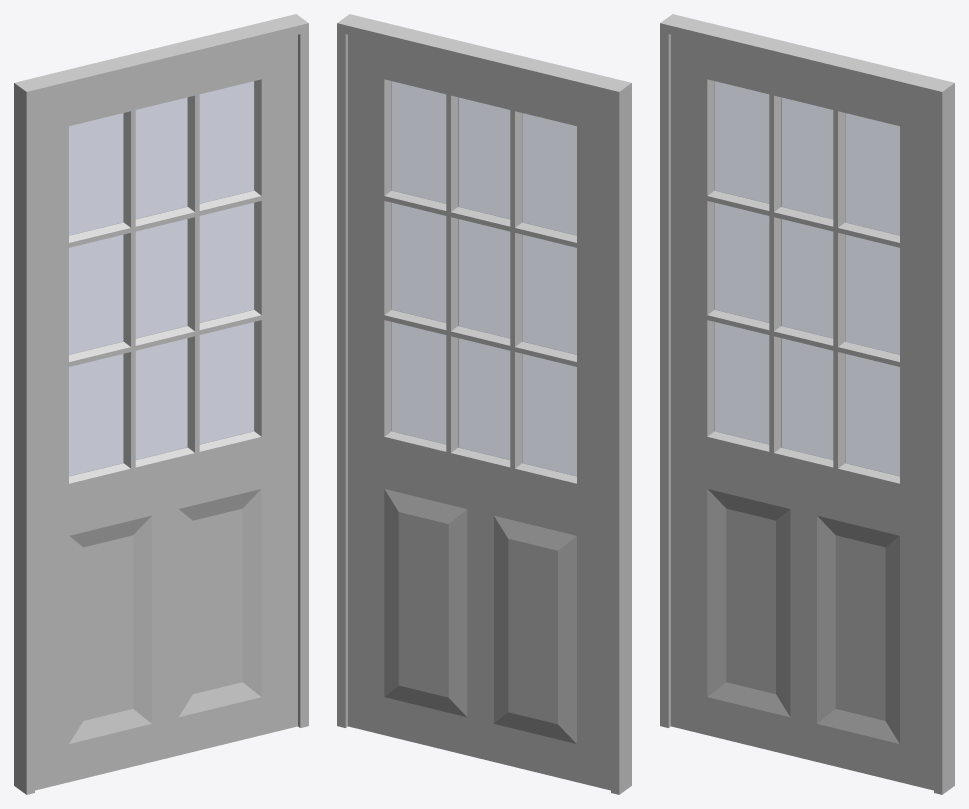
The model's file is puerta2.glb.
3 renders of one model, left to right at view 1: azimuth 30°, elevation 25°; view 2: azimuth 150°, elevation 25°; view 3: azimuth 330°, elevation 25°, orthographic.
Parts seen in each view (by area): view 1: Model, Group1; view 2: Model, Group1; view 3: Model, Group1.
Boxes of the visible parts, box(x1,y1,x2,y2) form: Model: box(14, 14, 308, 794); Group1: box(69, 79, 261, 492); Model: box(337, 14, 631, 794); Group1: box(384, 79, 576, 483); Model: box(660, 14, 954, 794); Group1: box(707, 79, 899, 492).
Bounding box in the file's own units: 36.52 × 86.93 × 2.81.
